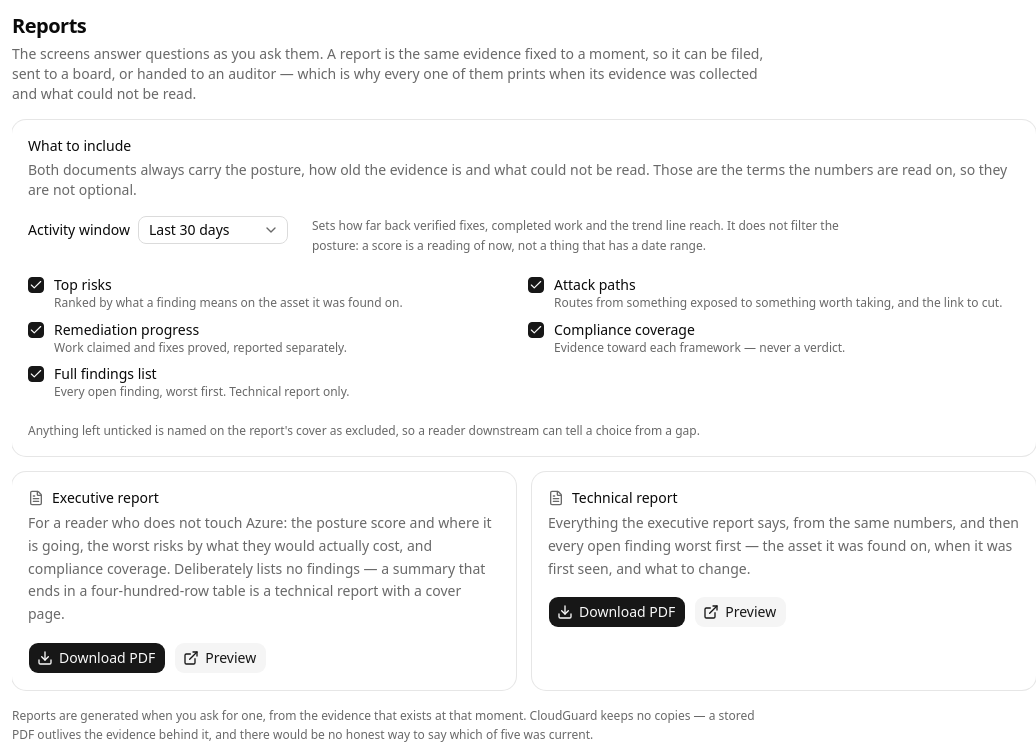
Test: ReportsPage › reports an ordinary failure as an ordinary failure
The image size is (1036, 754).
Click the 2nd button "Download PDF" at (97, 658), box x1=28 y1=642 x2=166 y2=674
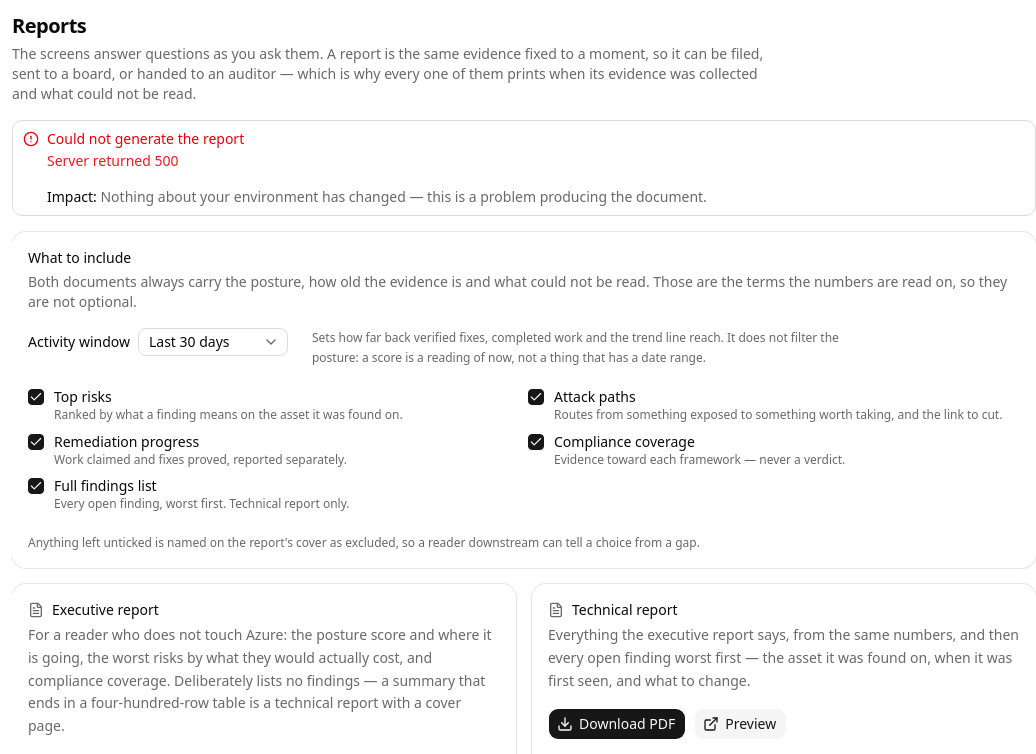
Check: the text "Could not generate the report" is shown, box x1=47 y1=129 x2=244 y2=148
